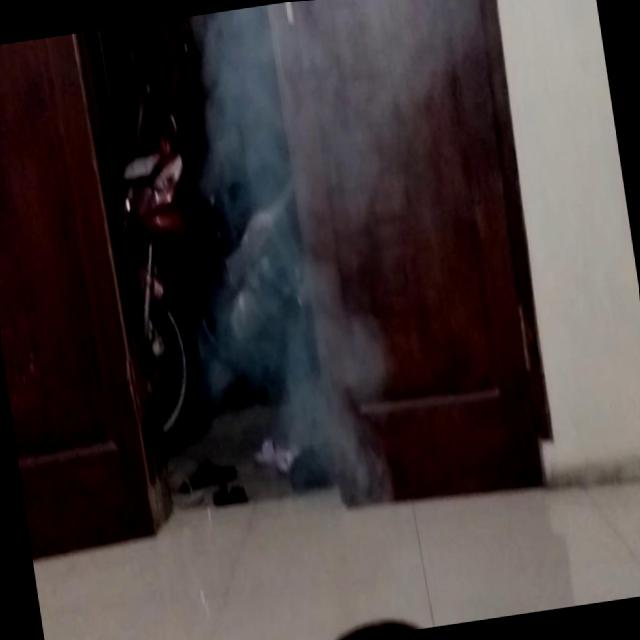smoke: (191, 0, 462, 515)
